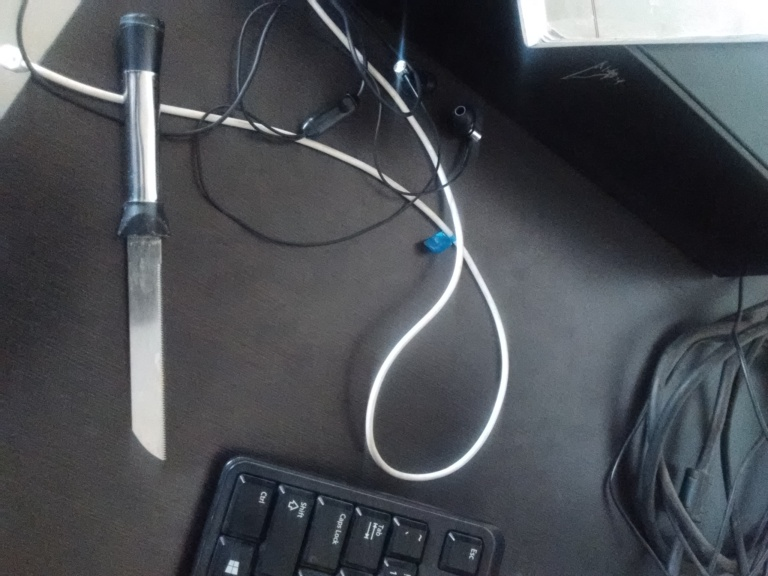knife: (114, 8, 178, 465)
